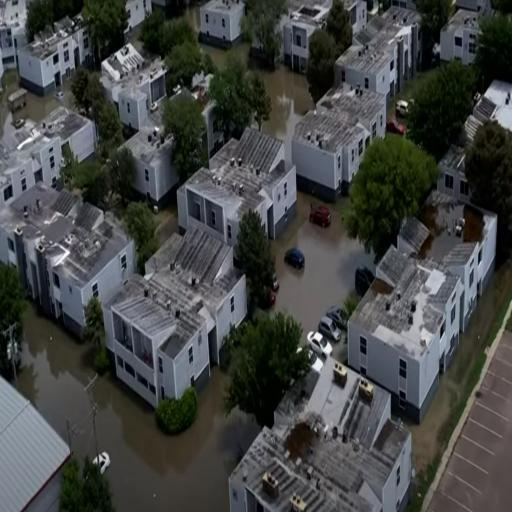flood: (94, 367, 259, 511), (272, 192, 375, 340), (200, 41, 313, 159), (17, 303, 94, 458), (465, 264, 512, 367), (415, 364, 457, 469), (14, 91, 59, 120), (399, 68, 436, 97), (3, 69, 18, 93), (61, 78, 73, 107), (0, 92, 8, 133)
house: (348, 189, 496, 424), (229, 353, 412, 512), (105, 225, 249, 423), (2, 181, 138, 347), (177, 124, 298, 258), (439, 73, 512, 239), (292, 80, 387, 206), (0, 372, 74, 512), (0, 109, 94, 198), (333, 0, 424, 91), (15, 9, 92, 101), (116, 110, 182, 216), (102, 43, 167, 138), (284, 3, 328, 81), (196, 0, 245, 57), (439, 8, 483, 68)
